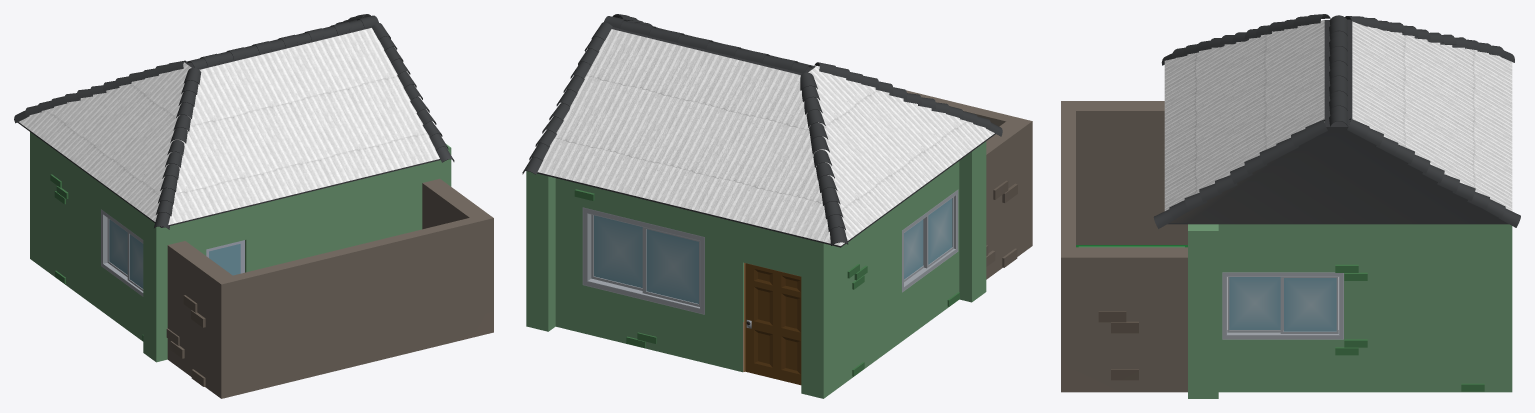
File: Casa1-Verde.FBX
The picture shows the model from 3 angles, left to right: view 1: azimuth 30°, elevation 25°; view 2: azimuth 150°, elevation 25°; view 3: azimuth 270°, elevation 25°; orthographic projection. The views are drawn at different scales.
Parts seen in each view (by area): view 1: Casa, Techo, Ventana, Door-2; view 2: Techo, Casa, Ventana, Puerta; view 3: Casa, Techo, Ventana.
Boxes of the visible parts, x1,y1,x2,y2 form: Casa: [30, 132, 493, 398]; Techo: [14, 14, 454, 229]; Ventana: [101, 209, 143, 296]; Door-2: [206, 240, 244, 275]; Techo: [522, 14, 1002, 247]; Casa: [526, 90, 1032, 398]; Ventana: [582, 189, 958, 314]; Puerta: [745, 263, 801, 385]; Casa: [1061, 101, 1512, 398]; Techo: [1153, 14, 1520, 228]; Ventana: [1222, 272, 1343, 339].
Bounding box in the file's own units: 668 × 744 × 485.
